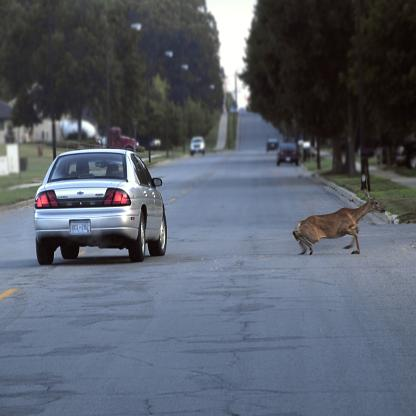Deer: (292, 190, 387, 261)
